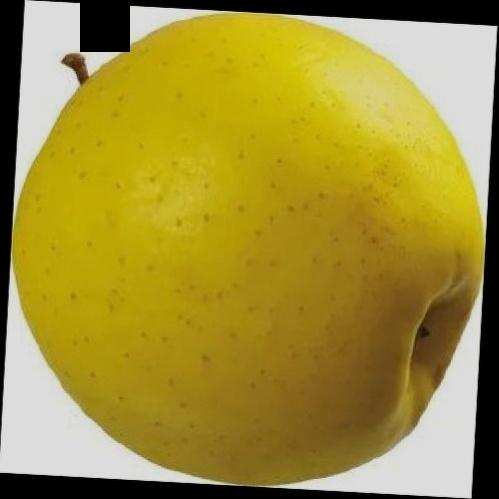green apple: (19, 15, 484, 485)
